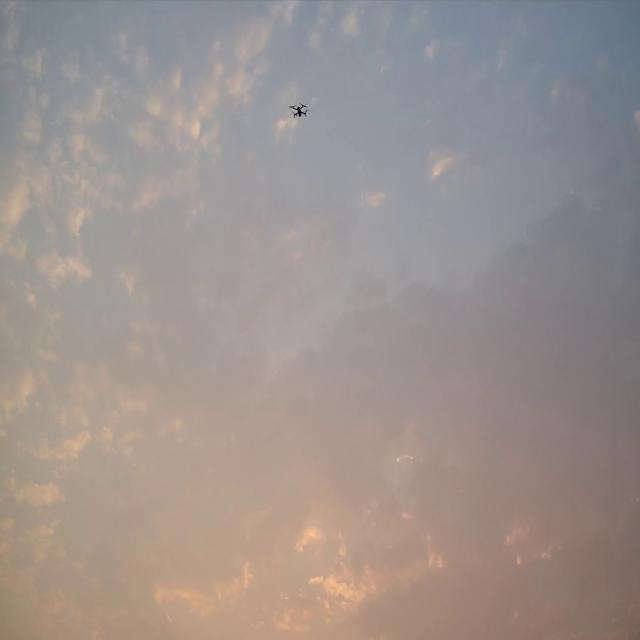drone: (289, 102, 308, 118)
